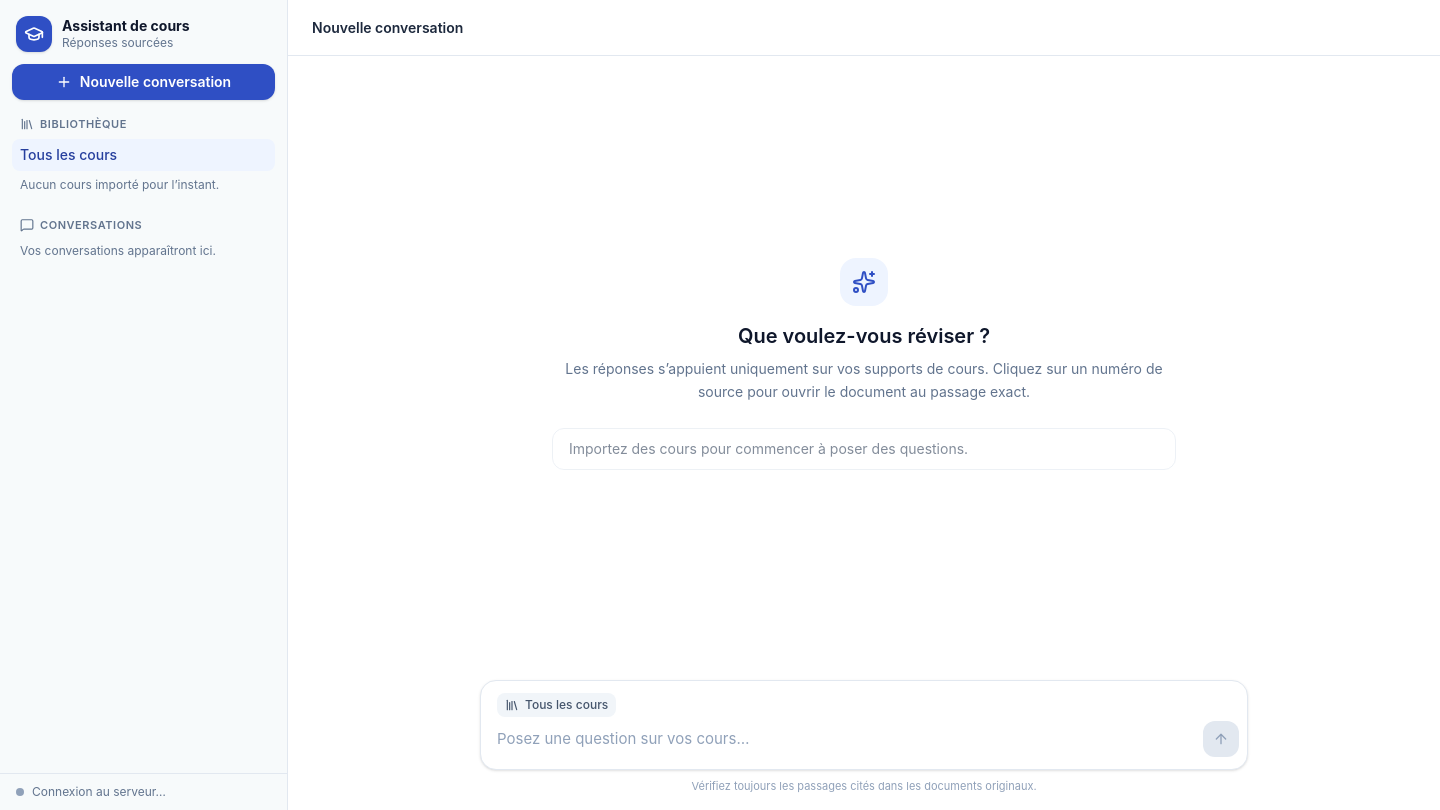
Test: Workspace › shows a clear error when the server cannot be reached
Type "Bonjour ?" into the text box labelled "question".
click(842, 738); type("Bonjour ?")  # box [489,716,1195,760]
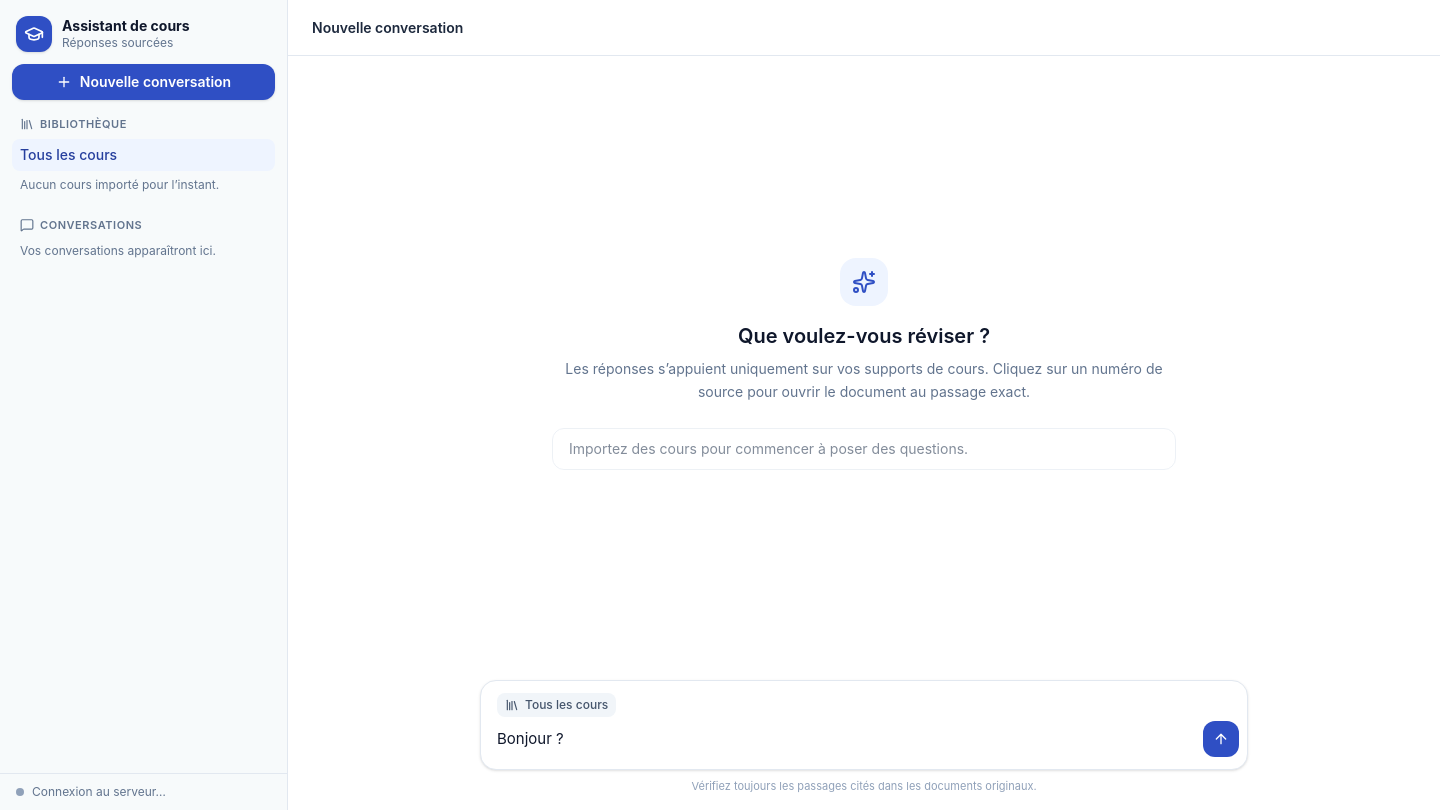
Click the button named "Envoyer".
click(1221, 738)  # box [1203,720,1239,756]
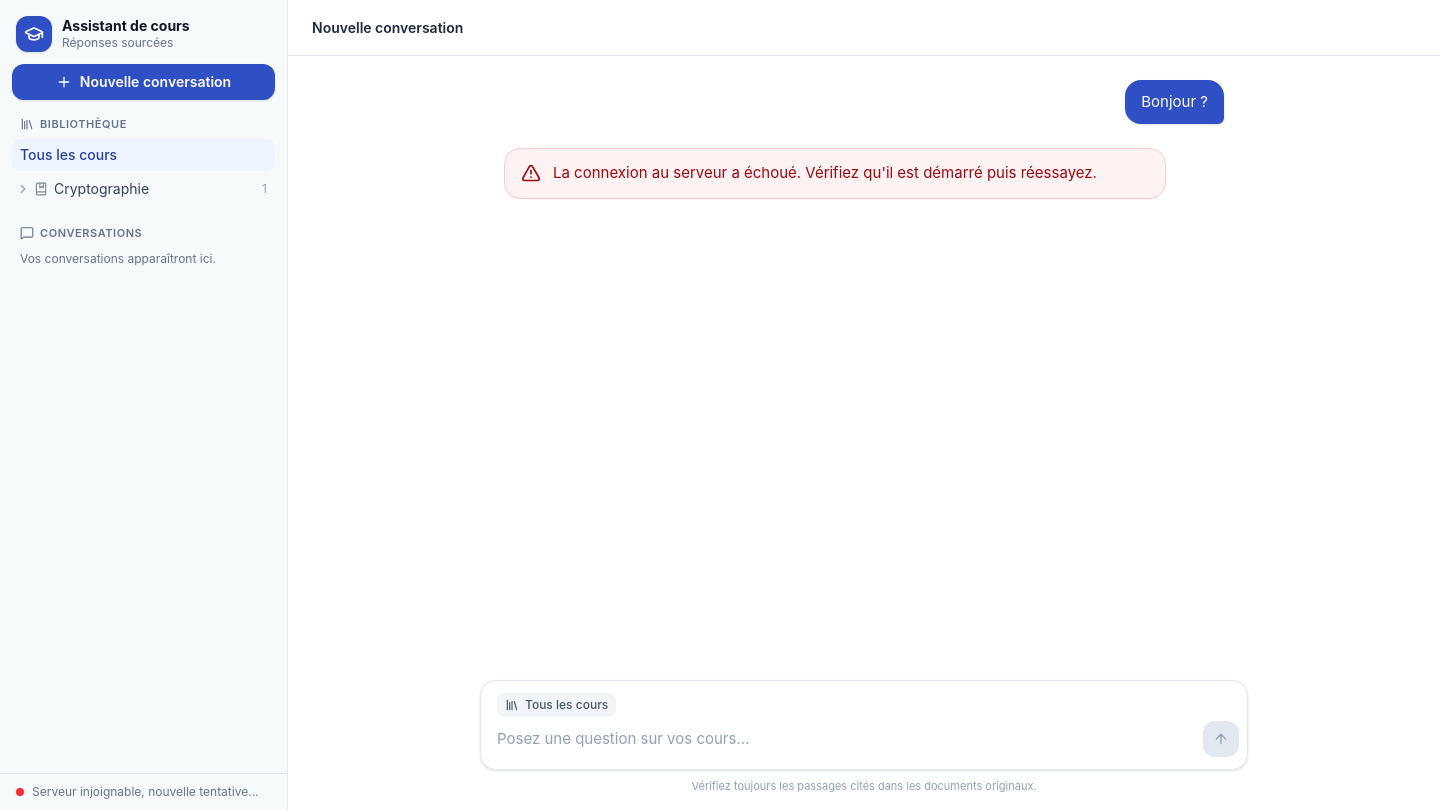
Result: the text "La connexion au serveur a échoué" is shown at [553,163,1097,182]
